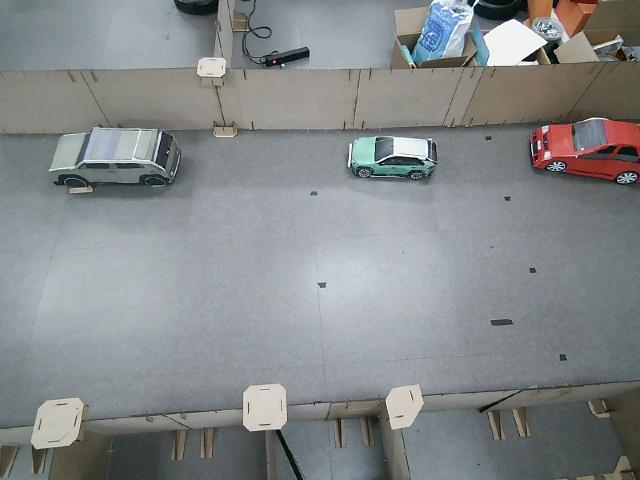car: (45, 126, 191, 196), (523, 116, 640, 193), (342, 128, 441, 194)
